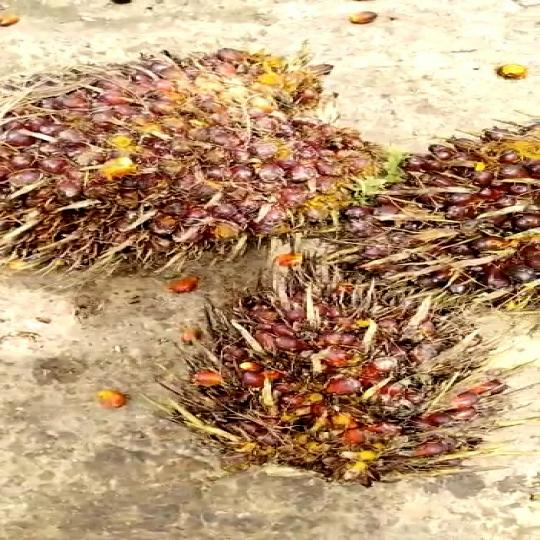masak: (0, 50, 407, 298), (172, 251, 510, 497)
